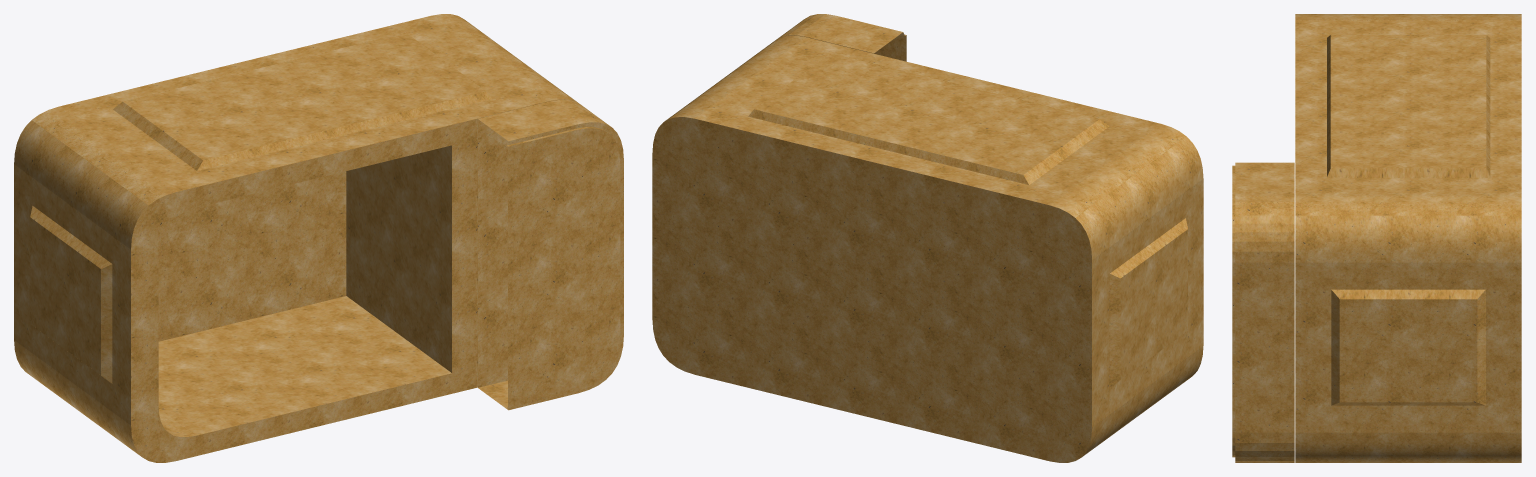
3 renders of one model, left to right at view 1: azimuth 30°, elevation 25°; view 2: azimuth 150°, elevation 25°; view 3: azimuth 270°, elevation 25°, orthographic. The views are drawn at different scales.
Parts seen in each view (by area): view 1: world; view 2: world; view 3: world.
Boxes of the visible parts, x1,y1,x2,y2 form: world: [14, 14, 623, 462]; world: [652, 14, 1203, 462]; world: [1232, 14, 1521, 462].
Bounding box in the file's own units: 0.5 × 0.2775 × 0.2723.
1 material, 1 textured.
